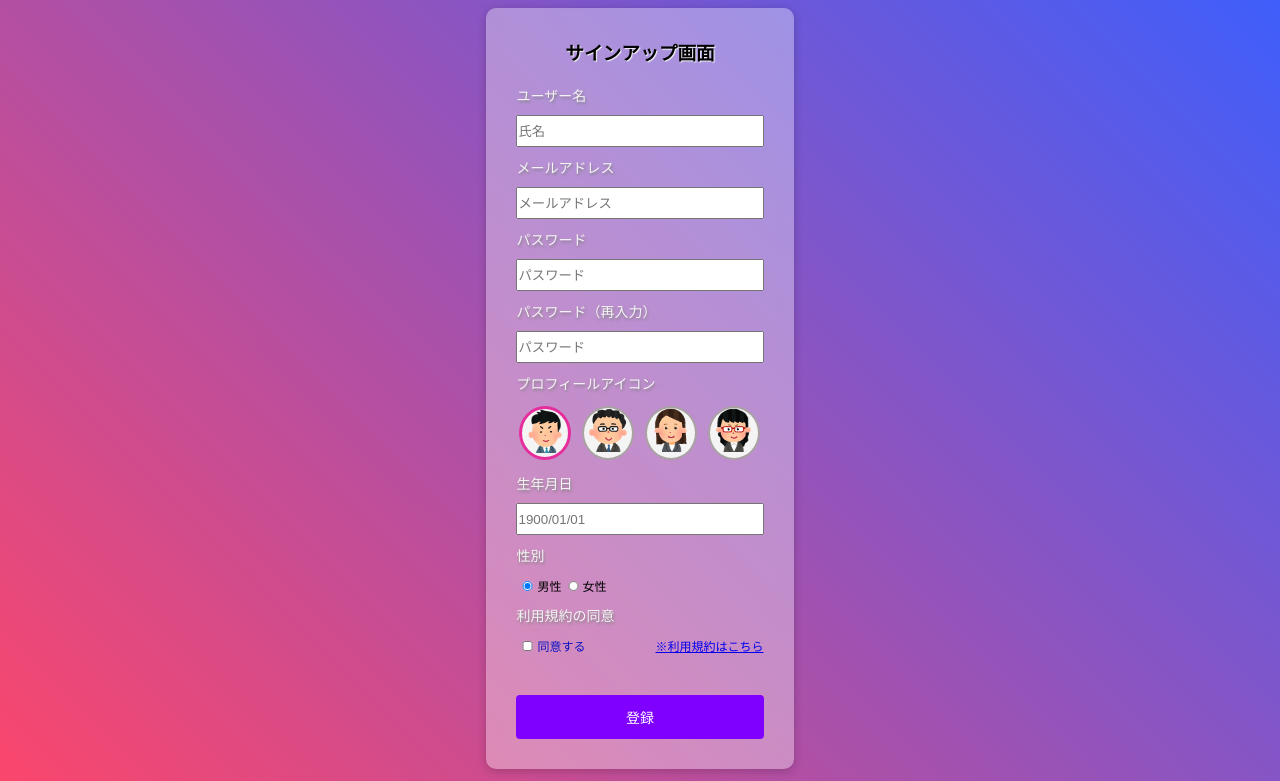
Test: バリデートチェックのテスト › バリデート形式チェック（メールアドレス）
Type "abcdefg" into the field labelled "メールアドレス" at (640, 203), box [516, 187, 764, 219]
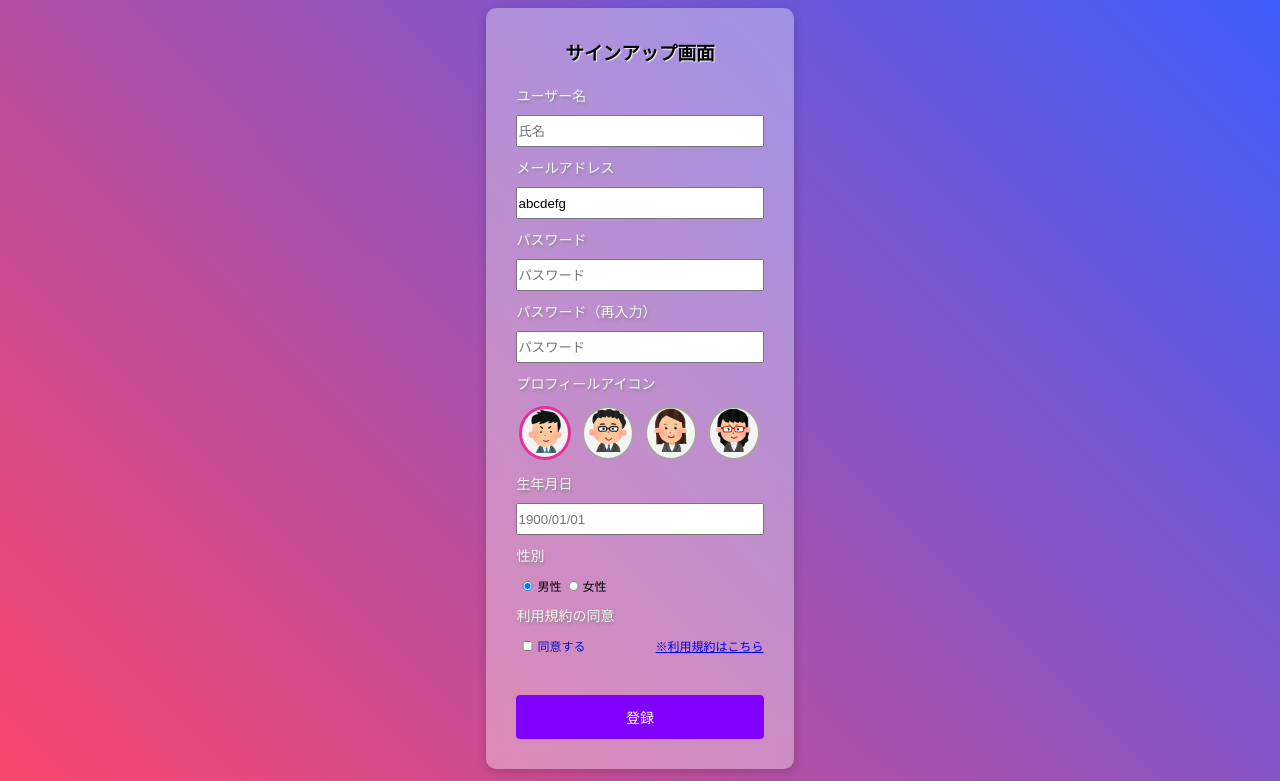
Click the button "登録" at (640, 717), box [516, 695, 764, 739]
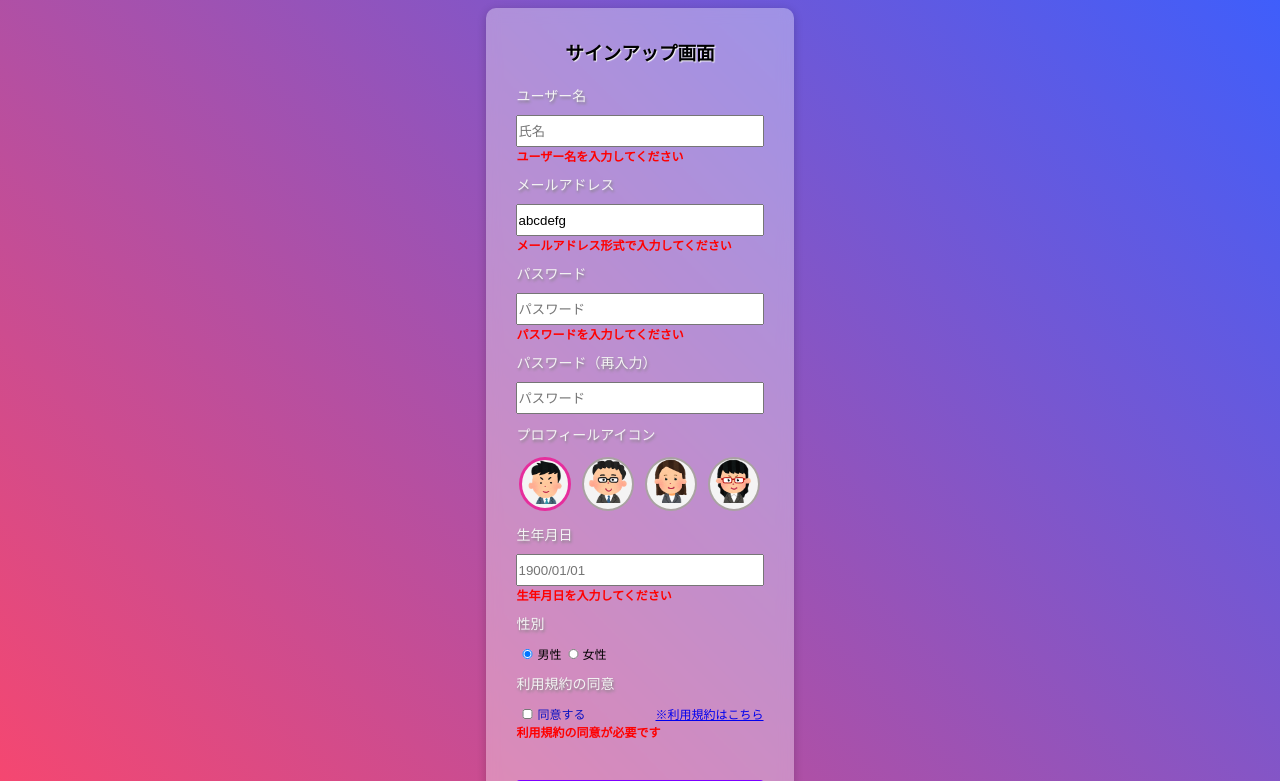
Expected: the text "メールアドレス形式で入力してください" is shown, [516, 236, 764, 253]
